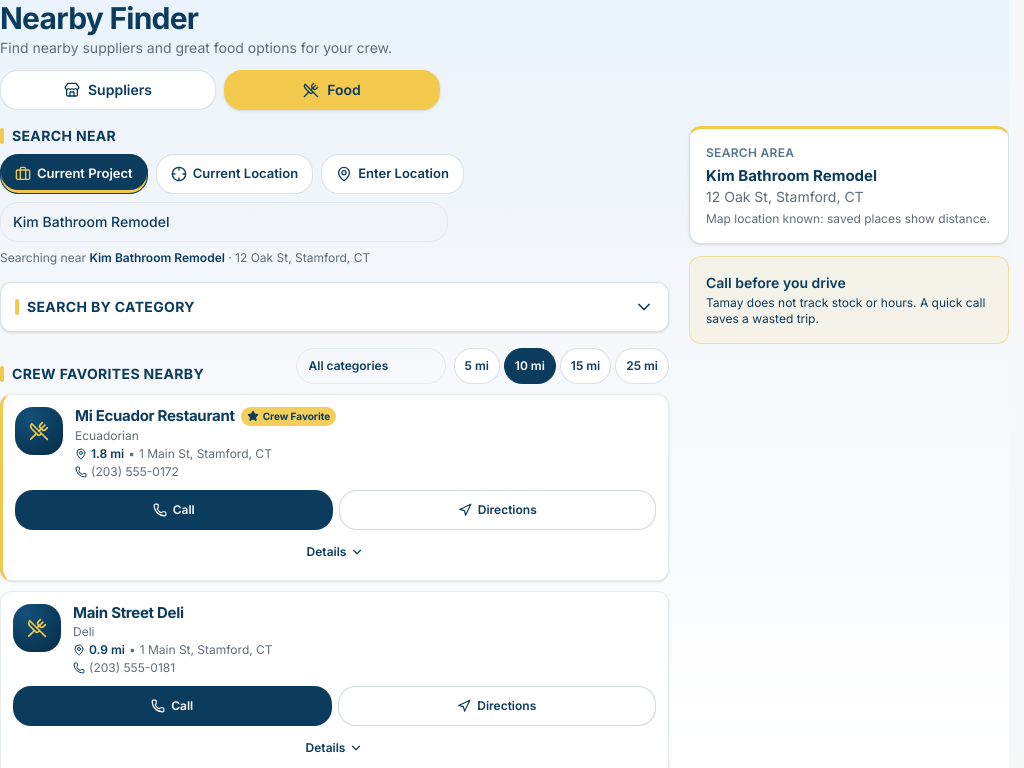
Test: Search Something Specific (inside Search by Category) › does nothing until something is typed; Food uses a food hint
The width and height of the screenshot is (1024, 768).
Click the button "Search by Category". click: [111, 306]
box: [1,282,668,330]
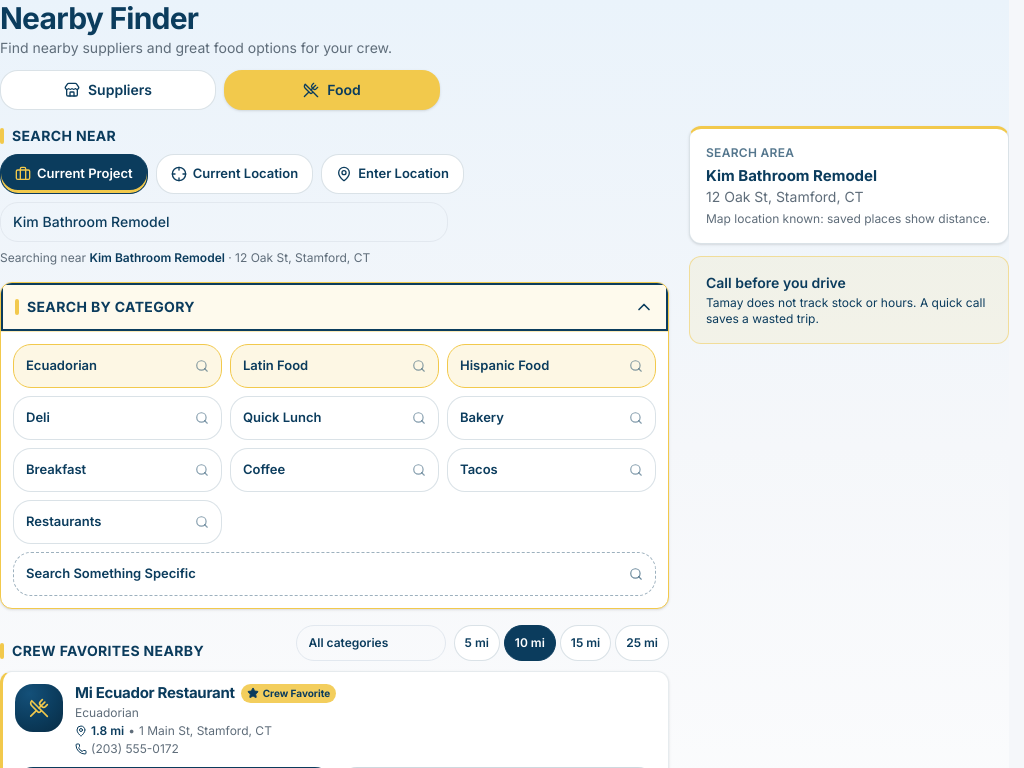
Click the button "Search Something Specific". click: [111, 573]
box: [13,552,656,596]
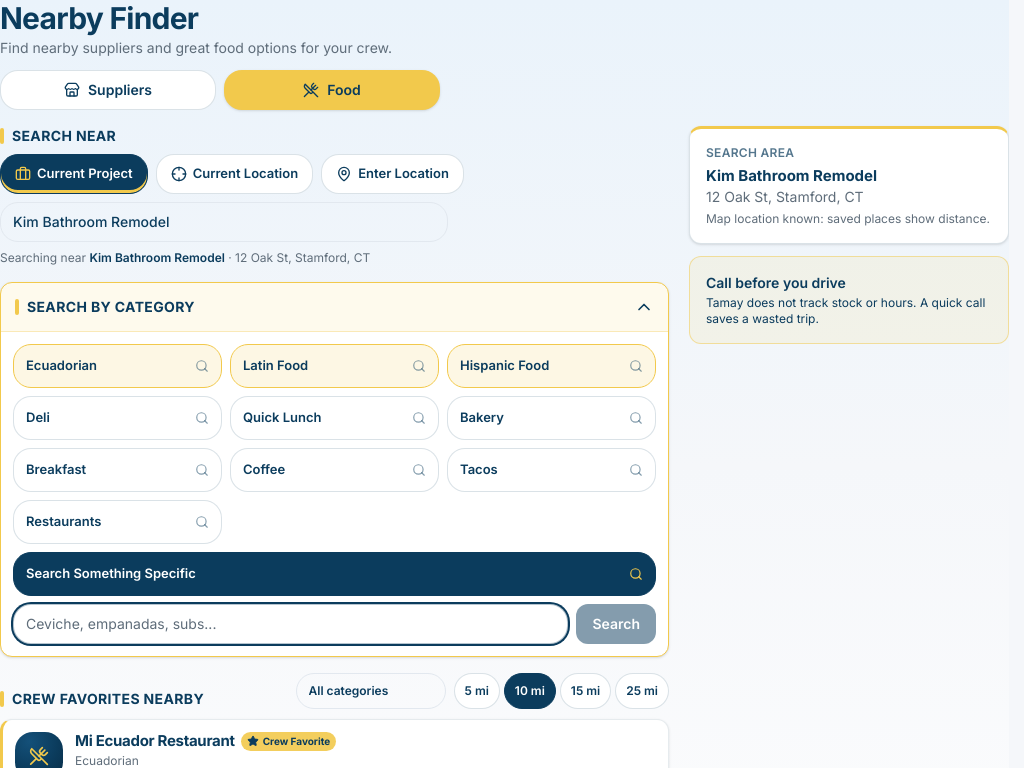
Now the search field with placeholder "Ceviche, empanadas, subs..." is shown, box [13,604,568,644]
Now the button "Search" is disabled, box [576,604,656,644]
